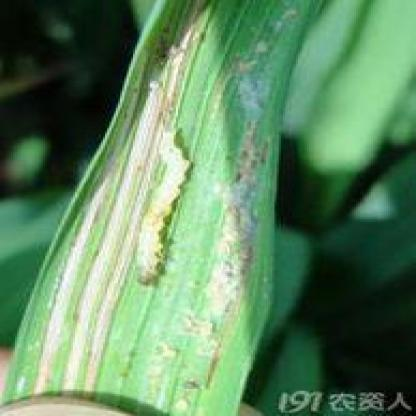leaf-folder: (110, 120, 236, 284)
